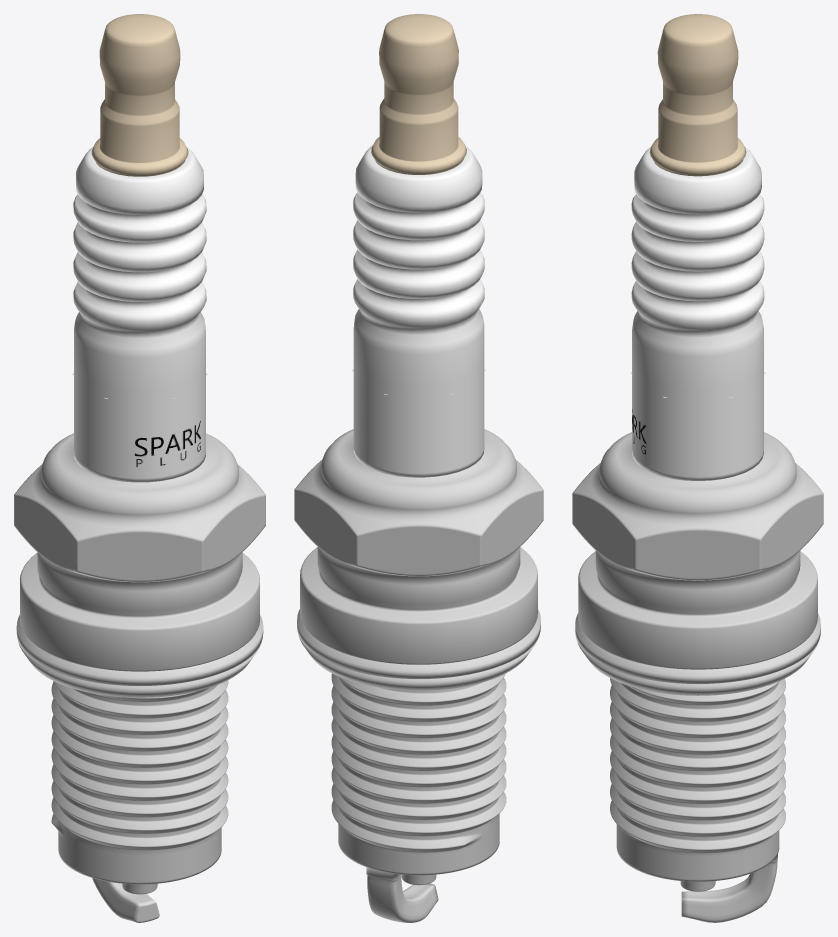
Rendered from 火花塞.glb.
3 renders of one model, left to right at view 1: azimuth 30°, elevation 25°; view 2: azimuth 150°, elevation 25°; view 3: azimuth 270°, elevation 25°, orthographic.
Visible parts, largest first — view 1: 球体, 圆环.001, ring, 圆环; view 2: 球体, 圆环.001, ring, 圆环; view 3: 球体, 圆环.001, ring, 圆环.
Boxes of the visible parts, box(x1,y1,x2,y2) form: 球体: box(14, 433, 265, 697); 圆环.001: box(73, 147, 206, 482); ring: box(51, 680, 228, 922); 圆环: box(91, 14, 188, 176); 球体: box(294, 429, 543, 690); 圆环.001: box(353, 145, 484, 477); ring: box(331, 673, 506, 922); 圆环: box(371, 14, 466, 174); 球体: box(572, 432, 823, 695); 圆环.001: box(631, 147, 764, 480); ring: box(610, 678, 785, 922); 圆环: box(649, 14, 746, 176).
Size of the model in its own units: 0.1002 by 0.4026 by 0.1025.
3 materials, 1 textured.
